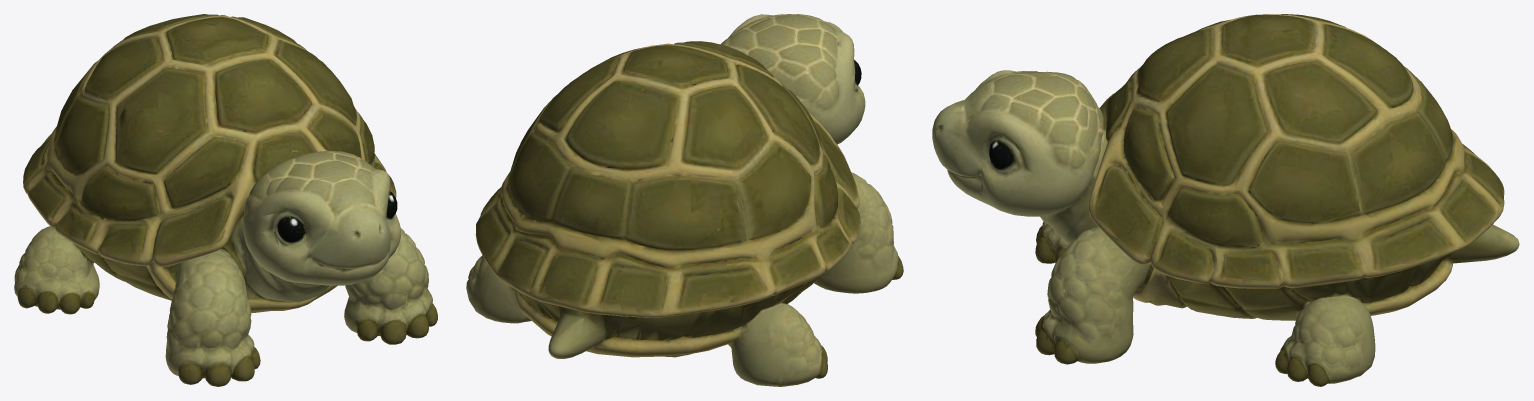
3 views of the same model, side by side, from view 1: azimuth 30°, elevation 25°; view 2: azimuth 150°, elevation 25°; view 3: azimuth 270°, elevation 25° (orthographic). The views are drawn at different scales.
Bounding box in the file's own units: 1.38 × 0.9704 × 1.9.
Materials: 1 (1 with a texture image).
